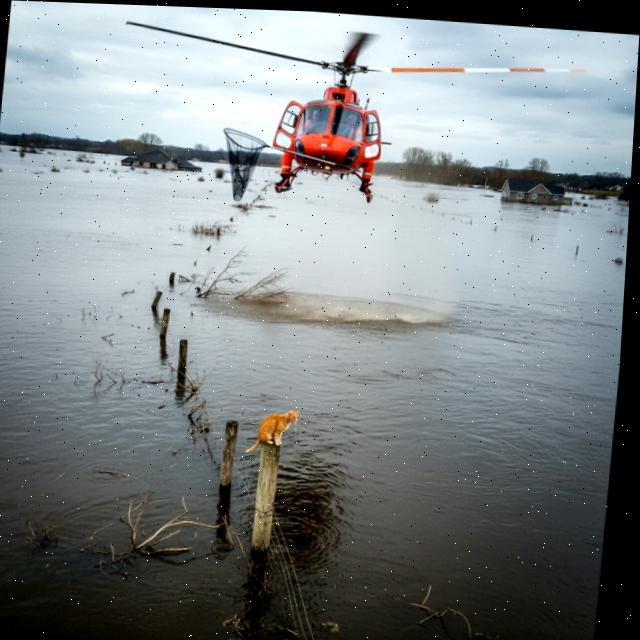cat: (243, 402, 304, 460)
